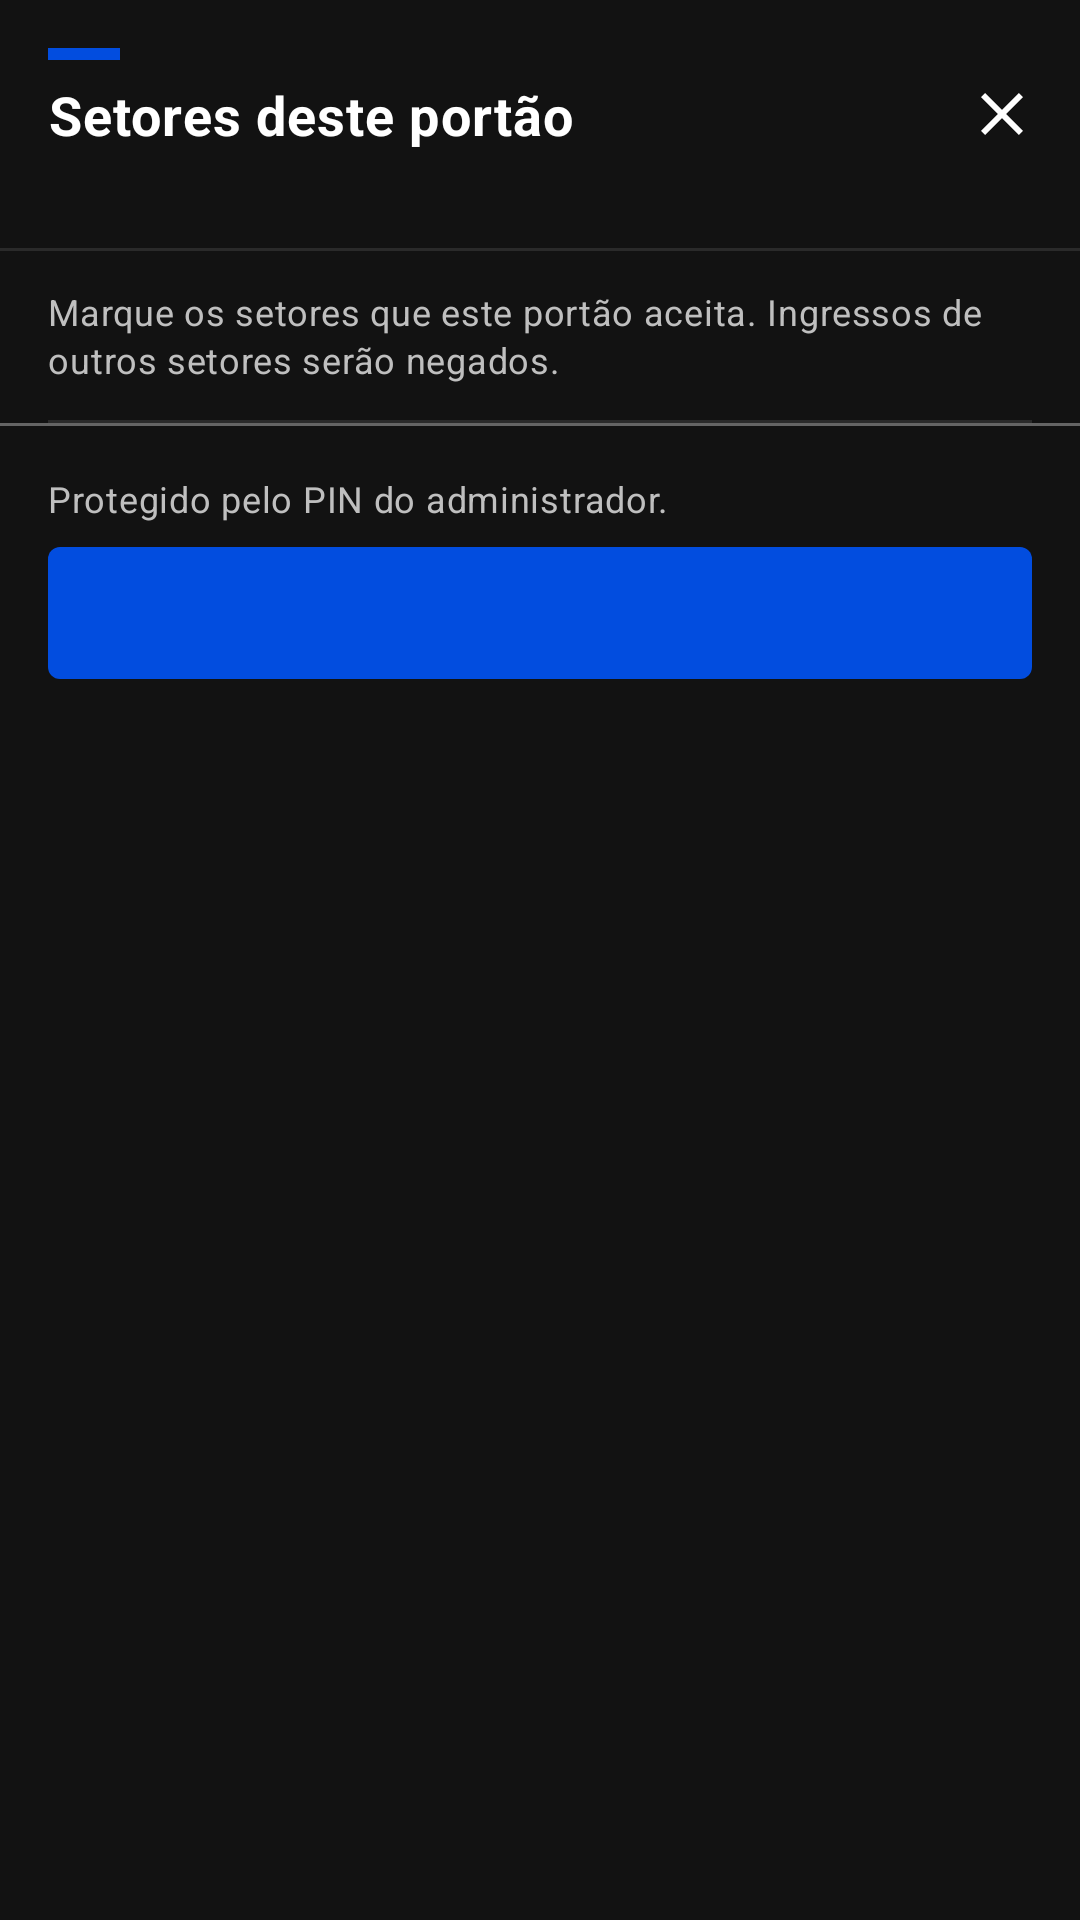

Named icons in this screenshot (1080px x 1920px) and their bounding boxes, (x1, y1, x2, y2):
Fechar: (981, 93, 1023, 135)
